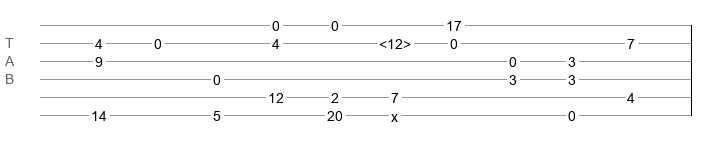0: (154, 36, 162, 46), (213, 72, 221, 82), (272, 18, 280, 28), (331, 18, 339, 28), (450, 36, 458, 46), (509, 54, 517, 64), (568, 108, 576, 118)
12: (268, 90, 284, 100)
14: (91, 108, 107, 118)
17: (446, 18, 462, 28)
2: (331, 90, 339, 100)
20: (327, 108, 343, 118)
3: (509, 72, 517, 82), (568, 54, 576, 64), (568, 72, 576, 82)
4: (95, 36, 103, 46), (272, 36, 280, 46), (627, 90, 635, 100)
5: (213, 108, 221, 118)
7: (391, 90, 399, 100), (627, 36, 635, 46)
9: (95, 54, 103, 64)
harmonic: (379, 36, 411, 46)
x: (391, 109, 398, 117)
